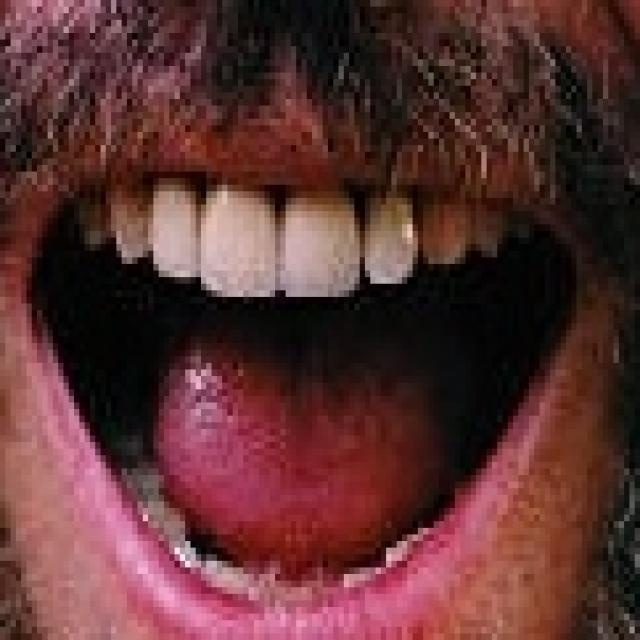open-mouth: (10, 138, 592, 634)
